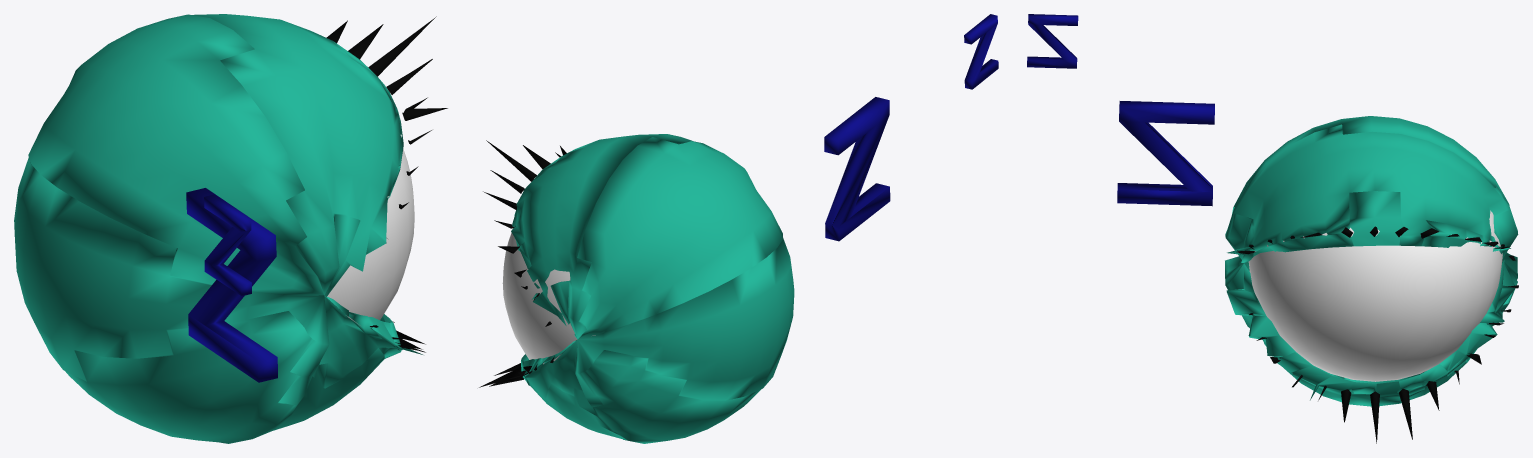
Rendered from Eye_Am_SLEEP_Adult.obj.
3 renders of one model, left to right at view 1: azimuth 30°, elevation 25°; view 2: azimuth 150°, elevation 25°; view 3: azimuth 270°, elevation 25°, orthographic. The views are drawn at different scales.
Parts seen in each view (by area): view 1: Eyelid, Zz2, Eye, Zz1; view 2: Eyelid, Zz2, Eye, Zz1; view 3: Eyelid, Eye, Zz2, Zz1.
Part boxes in pixels (box(x1,y1,x2,y2)): Eyelid: box(14, 14, 447, 443); Zz2: box(186, 188, 277, 382); Eye: box(327, 149, 414, 325); Zz1: box(204, 194, 251, 296); Eyelid: box(479, 134, 794, 443); Zz2: box(824, 97, 890, 241); Eye: box(502, 232, 595, 364); Zz1: box(964, 14, 998, 89); Eyelid: box(1225, 116, 1518, 443); Eye: box(1248, 210, 1502, 381); Zz2: box(1117, 101, 1214, 206); Zz1: box(1027, 14, 1078, 68).
Bounding box in the file's own units: 83.67 × 78.48 × 116.
